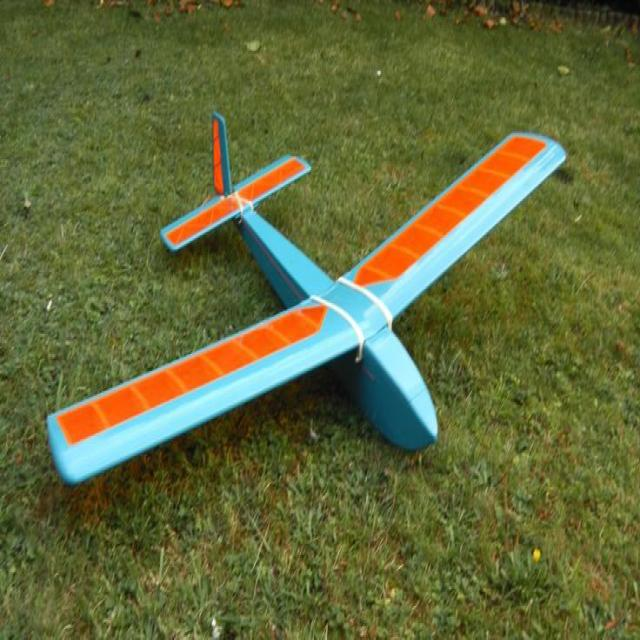iha: (48, 107, 565, 491)
